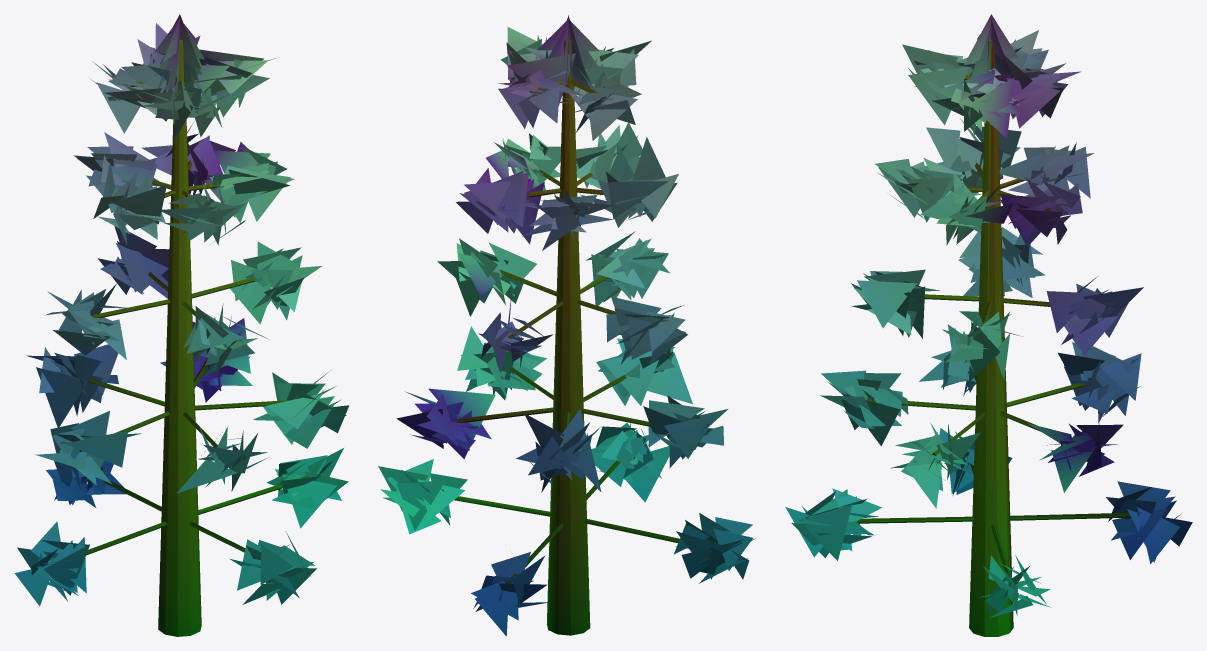
The model's file is ecological_conifer_young_02.glb.
3 renders of one model, left to right at view 1: azimuth 30°, elevation 25°; view 2: azimuth 150°, elevation 25°; view 3: azimuth 270°, elevation 25°, orthographic.
Visible parts, largest first — view 1: ecological_conifer_young_02; view 2: ecological_conifer_young_02; view 3: ecological_conifer_young_02.
Part boxes in pixels (left/top/right/bottom): ecological_conifer_young_02: left=14, top=14, right=349, bottom=636; ecological_conifer_young_02: left=378, top=15, right=755, bottom=636; ecological_conifer_young_02: left=785, top=14, right=1192, bottom=636.
Size of the model in its own units: 6.86 by 11.45 by 6.89.
